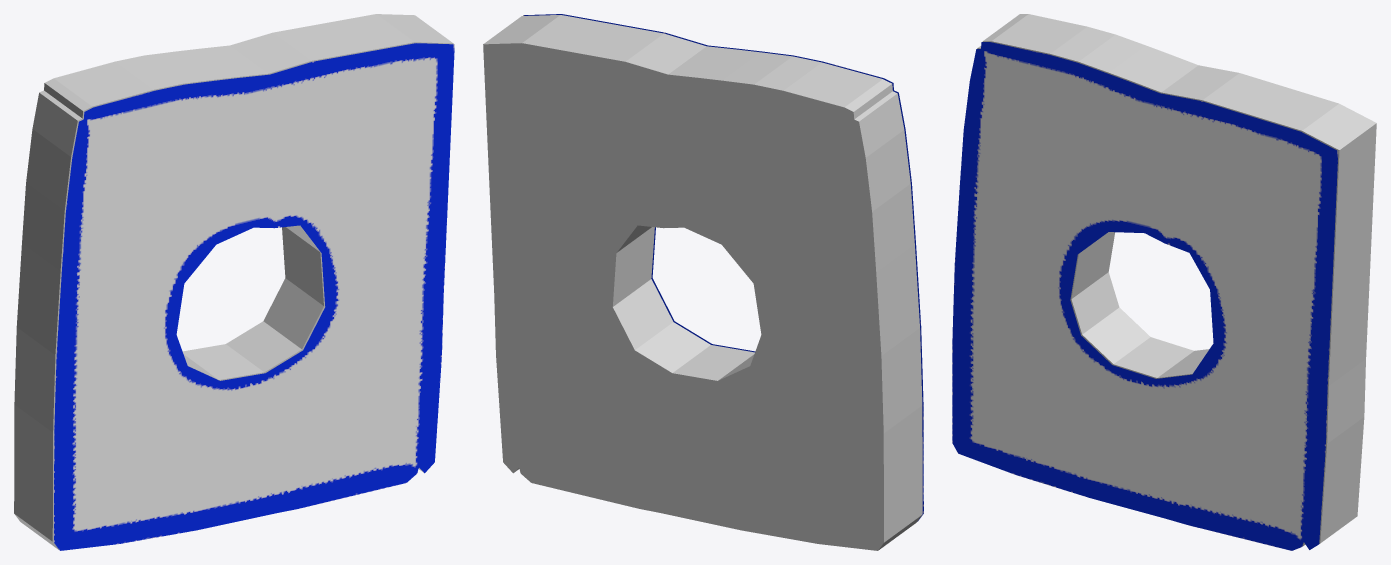
3 renders of one model, left to right at view 1: azimuth 30°, elevation 25°; view 2: azimuth 150°, elevation 25°; view 3: azimuth 330°, elevation 25°, orthographic. The views are drawn at different scales.
Visible parts, largest first — view 1: In_2_1, In_2_0; view 2: In_2_0, In_2_1; view 3: In_2_1, In_2_0.
Boxes of the visible parts, left/top/right/bottom form: In_2_1: left=54, top=43, right=454, bottom=550; In_2_0: left=14, top=14, right=453, bottom=549; In_2_0: left=483, top=15, right=922, bottom=550; In_2_1: left=523, top=14, right=923, bottom=521; In_2_1: left=952, top=42, right=1338, bottom=550; In_2_0: left=977, top=14, right=1376, bottom=546.
Size of the model in its own units: 2.99 by 3.24 by 0.515.
Materials: 2 (1 with a texture image).
